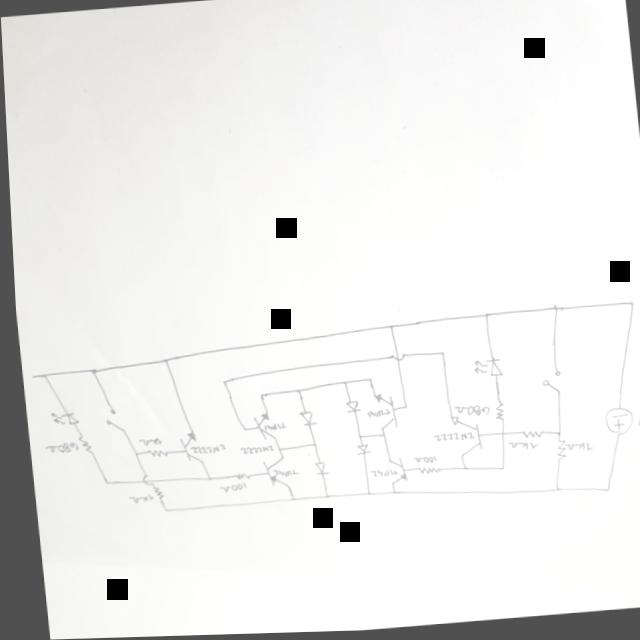crossover: (386, 352, 402, 365), (135, 473, 147, 486)
diode: (467, 358, 501, 382), (44, 408, 76, 429), (293, 411, 313, 428), (338, 399, 357, 416), (307, 461, 324, 479), (348, 444, 367, 458)
junction: (545, 300, 560, 317), (476, 309, 491, 324), (380, 322, 396, 335), (623, 300, 635, 317), (157, 356, 169, 367), (84, 365, 95, 377), (215, 377, 225, 386), (433, 351, 442, 361), (36, 369, 44, 378), (337, 379, 344, 389), (97, 479, 105, 487), (396, 404, 404, 412), (318, 493, 325, 502), (235, 425, 243, 432), (306, 441, 313, 449), (547, 488, 554, 496), (363, 377, 369, 386), (550, 431, 556, 440), (598, 487, 604, 496), (254, 392, 261, 399), (291, 387, 297, 395), (493, 466, 499, 474), (157, 507, 164, 513), (199, 476, 206, 482), (360, 491, 366, 498), (494, 432, 500, 439), (128, 451, 134, 457), (284, 496, 290, 502), (352, 435, 358, 441), (375, 434, 381, 440), (385, 491, 390, 497), (456, 467, 461, 473), (271, 448, 276, 453)
resistor: (71, 432, 88, 456), (548, 441, 562, 465), (141, 447, 164, 460), (486, 404, 500, 425), (412, 466, 435, 478), (515, 431, 538, 442), (146, 484, 159, 501), (228, 471, 246, 482)
source: (596, 405, 631, 442)
switch: (97, 404, 121, 435), (535, 369, 559, 398)
text: (449, 402, 487, 420), (425, 430, 470, 445), (38, 438, 75, 455), (183, 443, 222, 458), (501, 441, 533, 455), (557, 443, 589, 456), (234, 445, 268, 457), (212, 482, 242, 495), (121, 492, 148, 506), (255, 421, 282, 434), (359, 408, 386, 421), (266, 467, 295, 479), (364, 467, 393, 479), (132, 435, 158, 448), (406, 455, 431, 467), (630, 418, 640, 431)
transistor: (444, 414, 478, 460), (171, 429, 200, 466), (366, 393, 394, 431), (256, 456, 285, 491), (246, 411, 273, 443), (380, 458, 402, 487)
